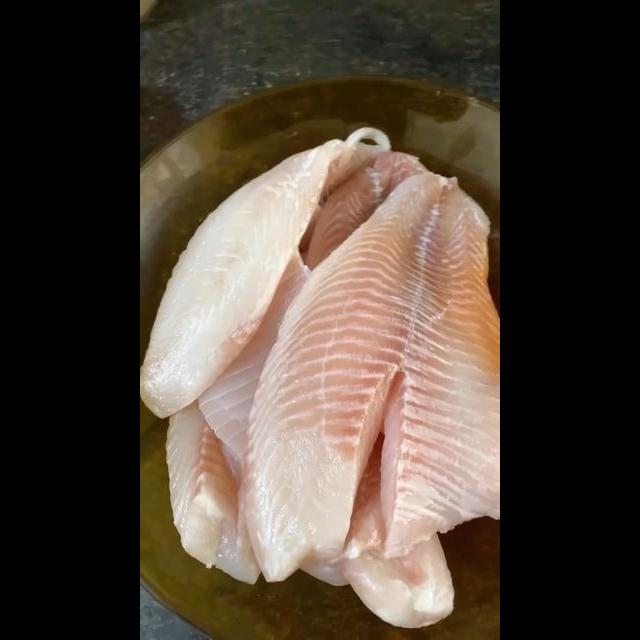fish: (230, 171, 500, 598)
